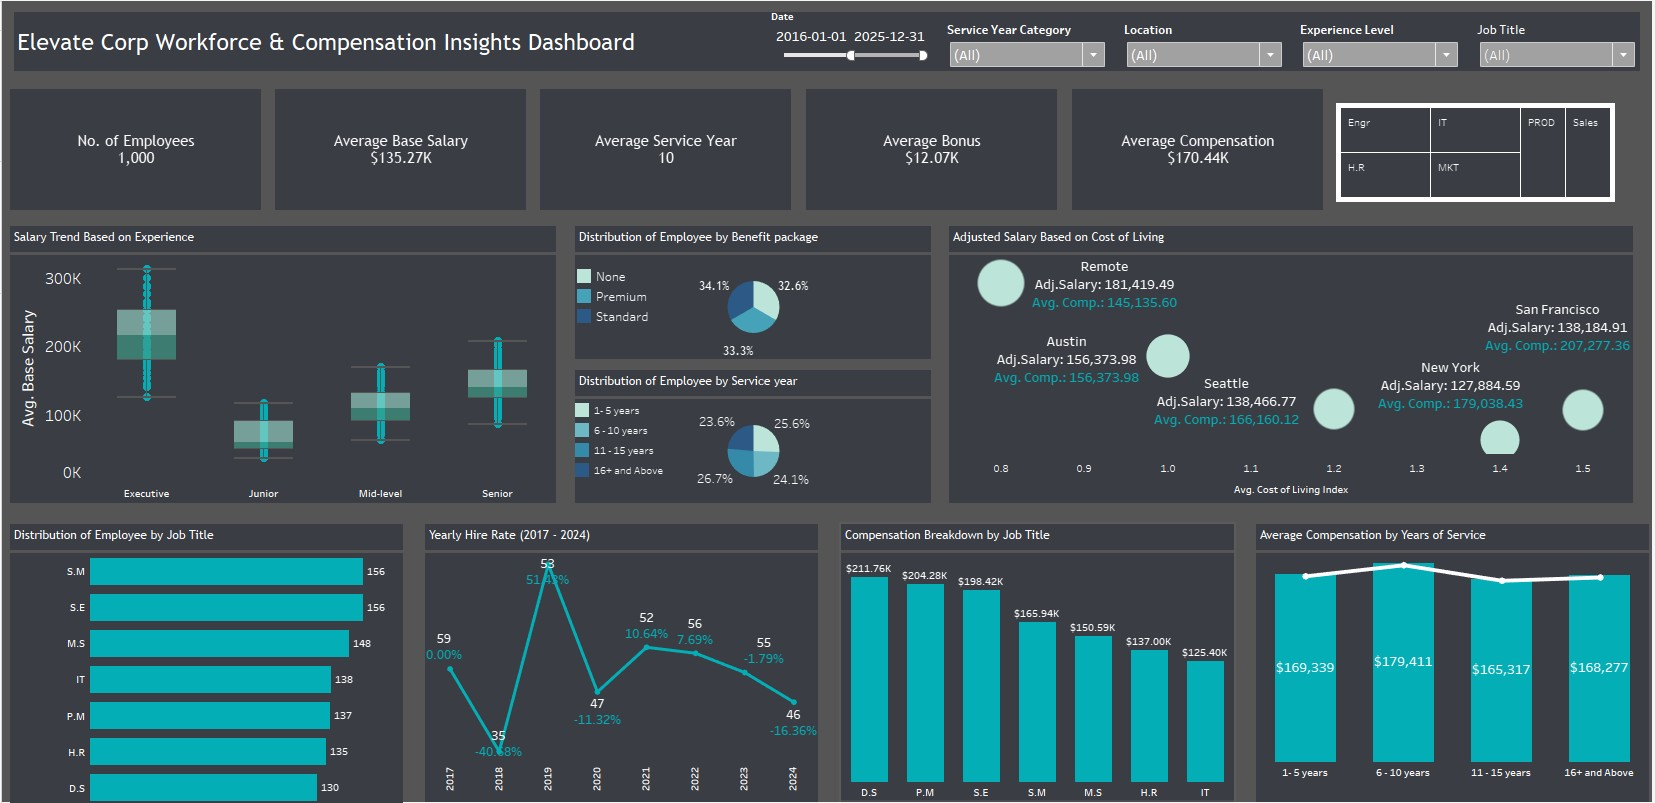

The page's visual inventory and layout, read from the dashboard file:
{"tool":"tableau","page":{"name":"Dashboard 1","canvas":[1000,1000],"units":"permille","ordinal":0},"visuals":[{"type":"title","box":[4.9,10,990.3,83.5]},{"type":"filter","title":"Yearly New Hire Rate","param":"[federated.1lv044n14waljh17ozadb00ckopy].[none:Date:qk]","box":[466.1,11.5,97.7,78.1]},{"type":"filter","title":"Avg Compensation by Years of Service","param":"[federated.1lv044n14waljh17ozadb00ckopy].[Service Year Category]","box":[573,25.6,97.7,78.1]},{"type":"filter","title":"Adjusted salary_cost of living","param":"[federated.1lv044n14waljh17ozadb00ckopy].[none:Location:nk]","box":[679.9,25.6,97.7,78.1]},{"type":"filter","title":"Salary Trend","param":"[federated.1lv044n14waljh17ozadb00ckopy].[none:Experience Level:nk]","box":[786.8,25.6,97.7,78.1]},{"type":"filter","title":"Employee by Job Title","param":"[federated.1lv044n14waljh17ozadb00ckopy].[none:Job Title:nk]","box":[893.7,25.6,97.7,78.1]},{"type":"worksheet","title":"Number of Employees","mark":"Automatic","box":[4.9,111.4,152.1,151.1]},{"type":"worksheet","title":"Avg. Base Salary","mark":"Automatic","box":[165.6,111.4,152.1,151.1]},{"type":"worksheet","title":"Avg. Service Year","mark":"Automatic","box":[326.2,111.4,152.1,151.1]},{"type":"worksheet","title":"Avg. Bonus","mark":"Automatic","box":[487.5,111.4,152.1,151.1]},{"type":"worksheet","title":"Avg. Compensation","mark":"Automatic","box":[648.8,111.4,152.1,151.1]},{"type":"worksheet","title":"Dept slicer","mark":"Square","box":[808.2,128,180.8,151.1]},{"type":"worksheet","title":"Salary Trend","mark":"Circle","rows":["Calculation_2407455540610752513"],"cols":["Experience Level"],"box":[4.9,281.7,331.1,345.7]},{"type":"worksheet","title":"Employee by Benefit package","mark":"Pie","box":[347,281.7,216.2,166.5]},{"type":"worksheet","title":"Adjusted salary_cost of living","mark":"Circle","rows":["Calculation_604889791150092288"],"cols":["Cost of Living Index"],"box":[574.2,281.7,414.8,345.7]},{"type":"legend","title":"Employee by Benefit package","param":"[federated.1lv044n14waljh17ozadb00ckopy].[none:Benefit Package:nk]","box":[346.4,331.6,85.5,108.8]},{"type":"worksheet","title":"Employee by Service Year","mark":"Pie","box":[347,460.9,216.2,166.5]},{"type":"legend","title":"Employee by Service Year","param":"[federated.1lv044n14waljh17ozadb00ckopy].[Service Year Category]","box":[345.8,499.4,85.5,121.6]},{"type":"worksheet","title":"Yearly New Hire Rate","mark":"Automatic","rows":["Calculation_604889791160446978"],"cols":["Date"],"box":[256.6,653,238.2,347]},{"type":"worksheet","title":"Comp. Breakdown by Job Title ","mark":"Automatic","rows":["Calculation_2407455540611330052"],"cols":["Job Title"],"box":[508.2,653,238.2,347]},{"type":"worksheet","title":"Avg Compensation by Years of Service","mark":"Automatic","rows":["Calculation_2407455540611330052","Calculation_2407455540611330052"],"box":[759.9,653,238.2,347]}]}

Visuals, with their boxes on the dashboard's canvas, which has no fixed pixel size, in thousandths of its width and height (x1, y1, x2, y2). These are canvas units, not pixel positions in the 1655x803 screenshot, which may show the page scaled, cropped or inside an application window:
title: Rect(5, 10, 995, 94)
"Yearly New Hire Rate" filter: Rect(466, 12, 564, 90)
"Avg Compensation by Years of Service" filter: Rect(573, 26, 671, 104)
"Adjusted salary_cost of living" filter: Rect(680, 26, 778, 104)
"Salary Trend" filter: Rect(787, 26, 884, 104)
"Employee by Job Title" filter: Rect(894, 26, 991, 104)
"Number of Employees" worksheet: Rect(5, 111, 157, 262)
"Avg. Base Salary" worksheet: Rect(166, 111, 318, 262)
"Avg. Service Year" worksheet: Rect(326, 111, 478, 262)
"Avg. Bonus" worksheet: Rect(488, 111, 640, 262)
"Avg. Compensation" worksheet: Rect(649, 111, 801, 262)
"Dept slicer" worksheet (Square marks): Rect(808, 128, 989, 279)
"Salary Trend" worksheet (Circle marks): Rect(5, 282, 336, 627)
"Employee by Benefit package" worksheet (Pie marks): Rect(347, 282, 563, 448)
"Adjusted salary_cost of living" worksheet (Circle marks): Rect(574, 282, 989, 627)
"Employee by Benefit package" legend: Rect(346, 332, 432, 440)
"Employee by Service Year" worksheet (Pie marks): Rect(347, 461, 563, 627)
"Employee by Service Year" legend: Rect(346, 499, 431, 621)
"Yearly New Hire Rate" worksheet: Rect(257, 653, 495, 1000)
"Comp. Breakdown by Job Title " worksheet: Rect(508, 653, 746, 1000)
"Avg Compensation by Years of Service" worksheet: Rect(760, 653, 998, 1000)
